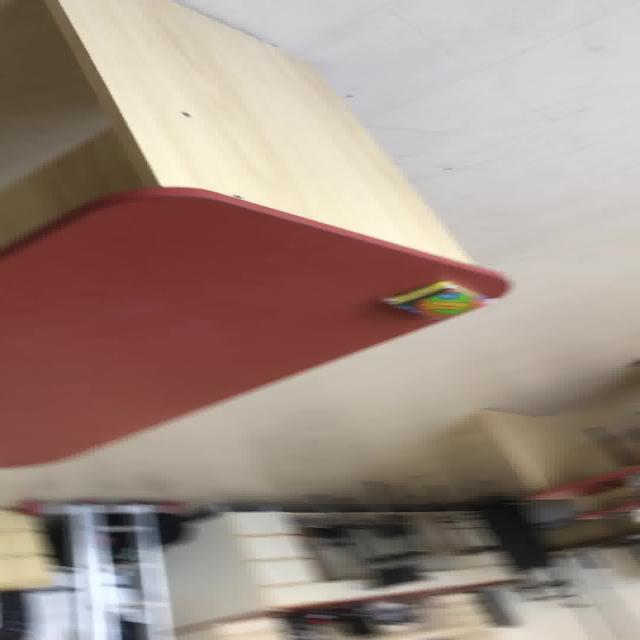sponge: (0, 184, 512, 469), (379, 280, 492, 318)
